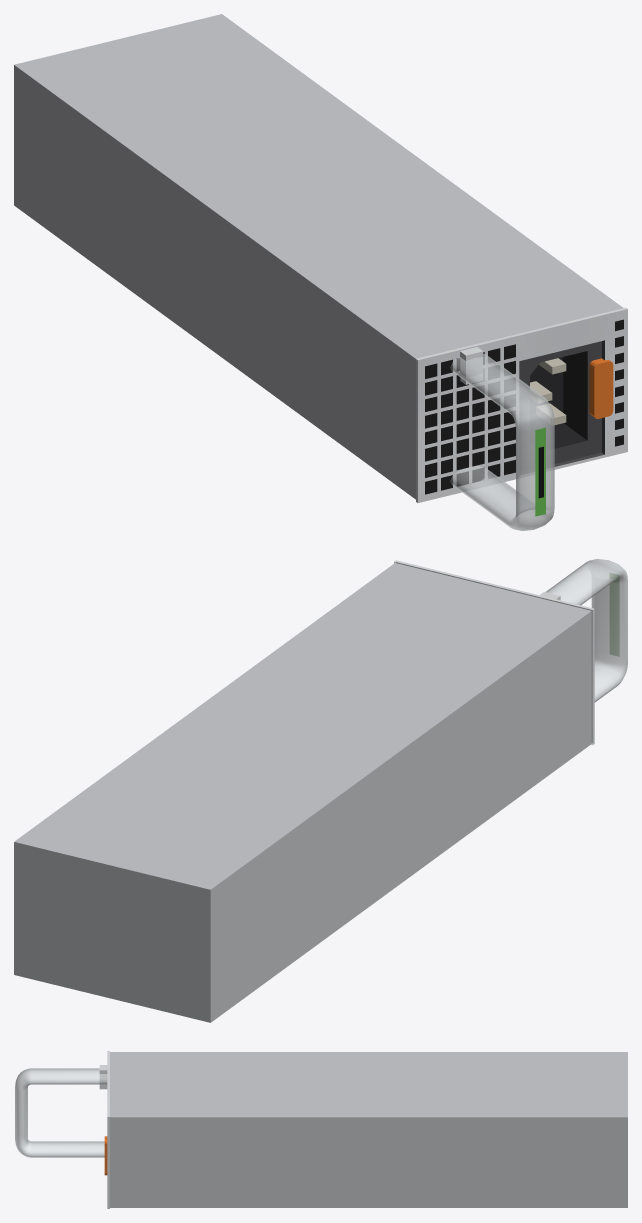
The model's file is DELL-PSU-60MM-1400W.glb.
3 views of the same model, one above another, from view 1: azimuth 30°, elevation 25°; view 2: azimuth 150°, elevation 25°; view 3: azimuth 270°, elevation 25° (orthographic). The views are drawn at different scales.
Visible parts, largest first — view 1: PSU, PSU_Handle; view 2: PSU, PSU_Handle; view 3: PSU, PSU_Handle.
Boxes of the visible parts, <box> form: PSU: <box>14,14,627,516</box>; PSU_Handle: <box>450,354,554,530</box>; PSU: <box>14,560,618,1022</box>; PSU_Handle: <box>546,559,627,702</box>; PSU: <box>99,1051,627,1208</box>; PSU_Handle: <box>15,1068,107,1157</box>.
Size of the model in its own units: 0.06 by 0.039 by 0.2362.
Materials: 11 (1 with a texture image).
